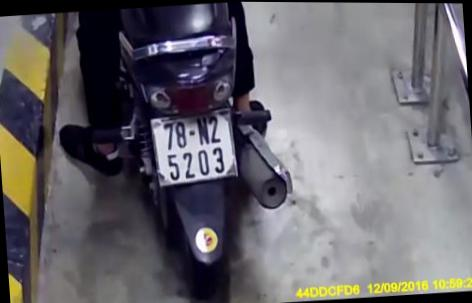LP: (148, 110, 239, 187)
